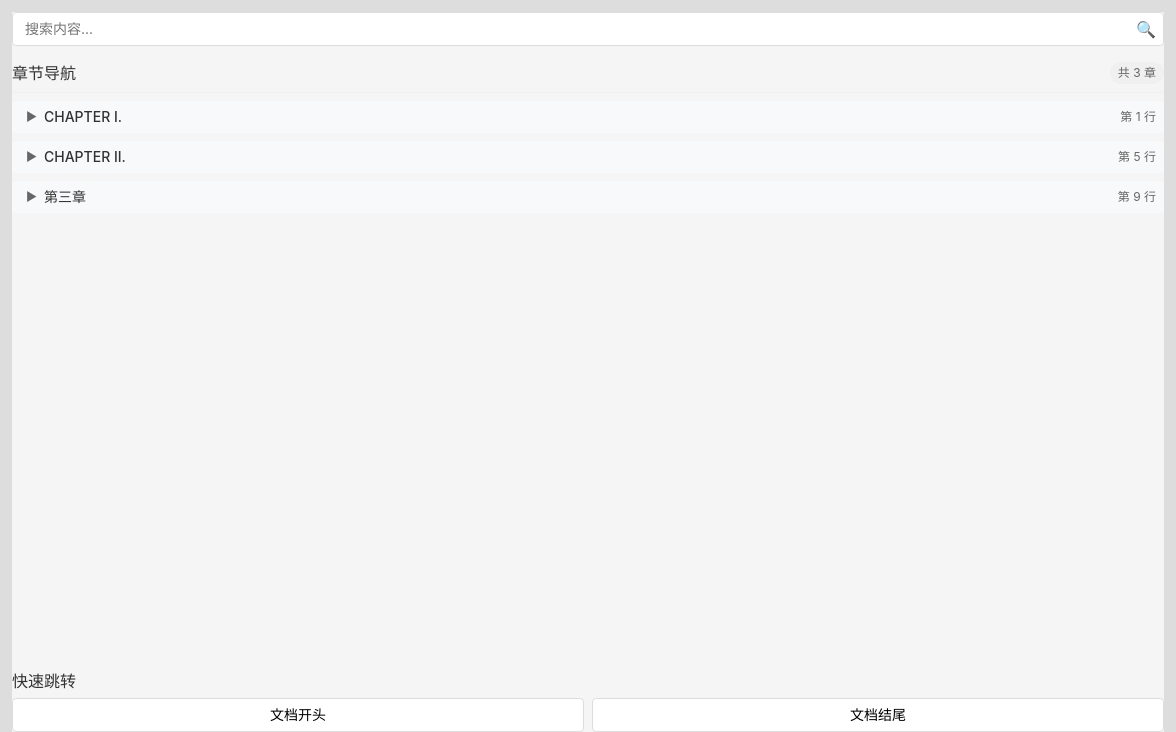
Test case: NavigationPanel › expands and collapses chapters
Click the button "▶" next to "CHAPTER I." at [28, 117], box [20,109,36,125]
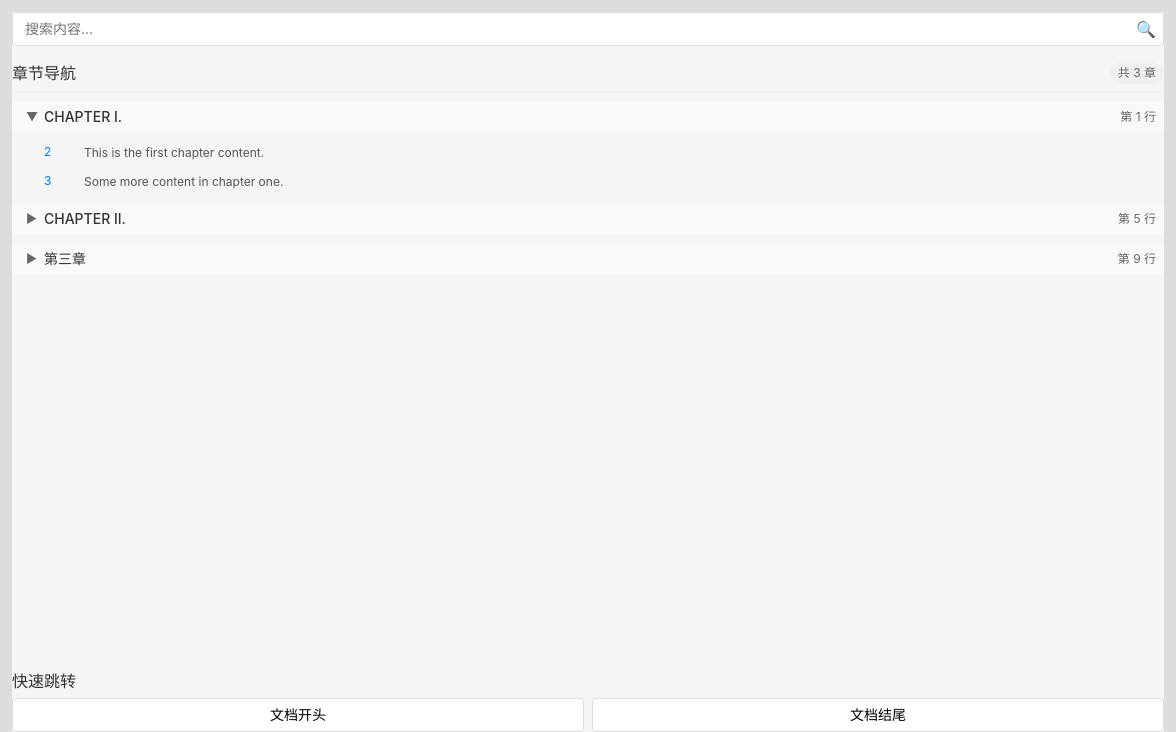
Now the text "This is the first chapter content." is shown, box [84,145,264,162]
